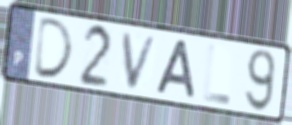2: (78, 22, 114, 91)
9: (242, 48, 278, 114)
A: (153, 38, 197, 101)
D: (31, 15, 76, 81)
L: (201, 42, 231, 107)
V: (120, 31, 160, 92)
